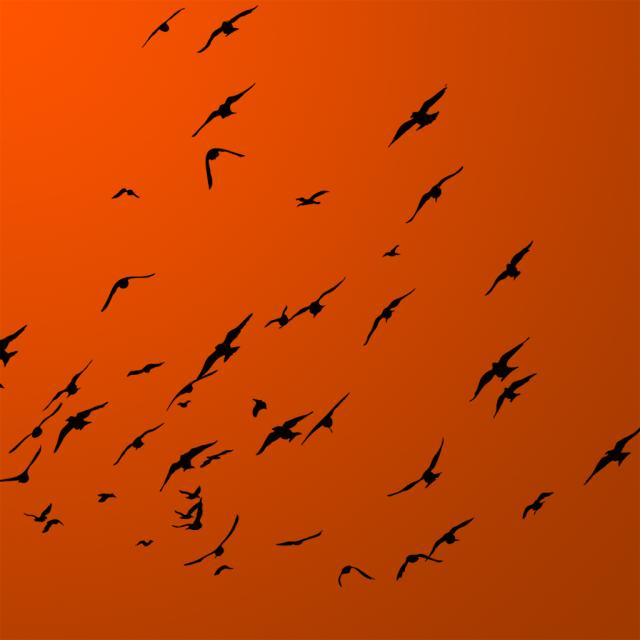bird: (472, 336, 528, 407), (192, 311, 255, 374), (180, 520, 252, 571), (389, 437, 447, 499), (389, 89, 448, 148), (190, 84, 258, 135), (156, 442, 230, 488), (586, 425, 640, 487), (197, 5, 261, 57), (364, 287, 419, 347), (405, 168, 466, 222), (295, 392, 351, 444), (487, 242, 537, 296), (54, 405, 108, 454), (288, 278, 344, 324), (102, 272, 158, 312), (114, 423, 163, 468), (10, 410, 56, 457), (258, 416, 307, 460), (204, 148, 248, 192), (493, 374, 538, 417), (45, 363, 91, 404), (143, 8, 186, 49), (429, 516, 476, 552), (0, 323, 29, 367), (397, 554, 439, 584), (525, 489, 555, 520), (338, 565, 376, 589), (174, 500, 204, 530), (267, 530, 323, 546), (24, 502, 60, 526), (128, 357, 166, 379), (295, 187, 329, 211), (264, 304, 295, 329), (111, 188, 142, 203), (248, 398, 268, 418), (135, 540, 160, 554), (382, 242, 402, 259)
